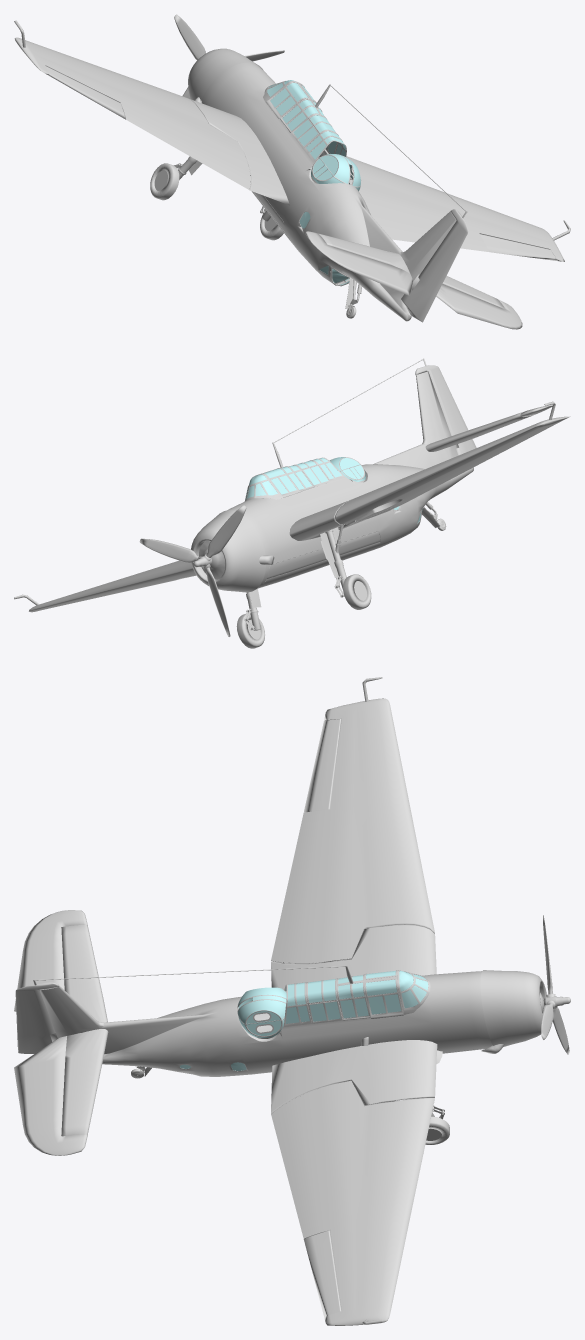
Rendered from TBM3_Avenger_CrashLanding.fbx.
3 views of the same model, one above another, from view 1: azimuth 30°, elevation 25°; view 2: azimuth 150°, elevation 25°; view 3: azimuth 270°, elevation 25° (orthographic). The views are drawn at different scales.
Parts seen in each view (by area): view 1: TBM-3 Avenger; view 2: TBM-3 Avenger; view 3: TBM-3 Avenger.
Boxes of the visible parts, <box> form: TBM-3 Avenger: <box>14,14,570,329</box>; TBM-3 Avenger: <box>14,358,570,648</box>; TBM-3 Avenger: <box>14,677,570,1325</box>.
Bounding box in the file's own units: 1513 × 918 × 1236.
